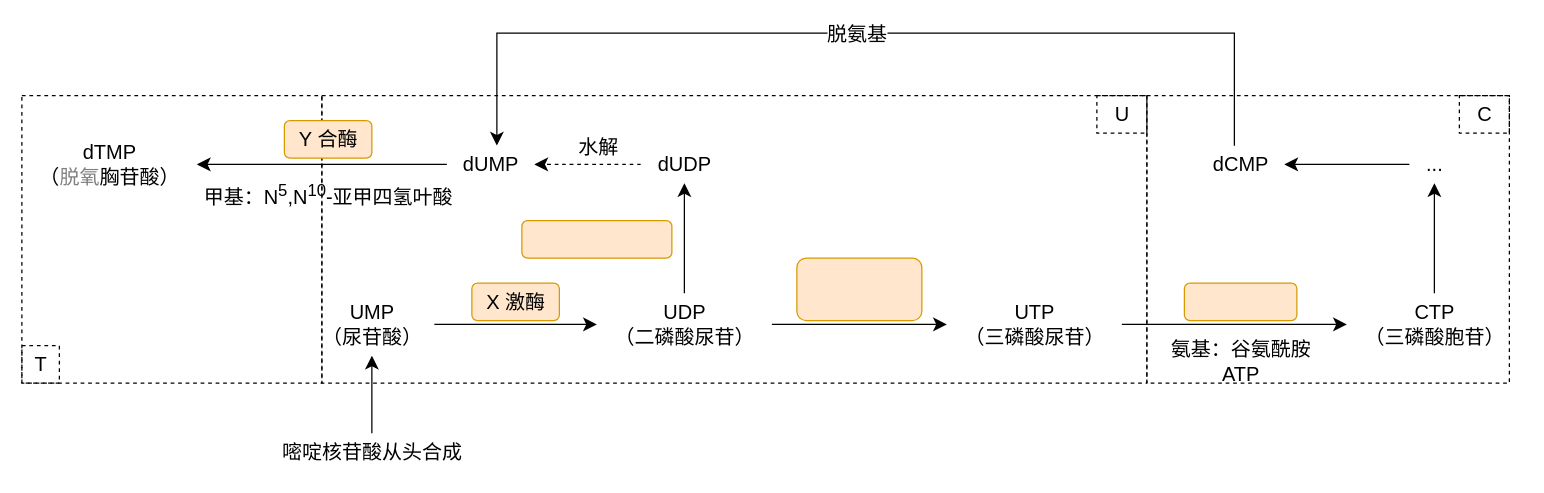
Image size: 1544x493. Some labels were removed from this diagram. Here are the shapes that lost their labels. From the top down, the centre of each, then its label:
(596,238): 核苷酸还原酶
(859,289): 二磷酸核苷 激酶
(1240,301): Y 合成酶
